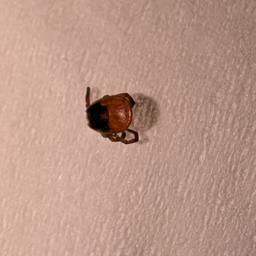Ixodes scapularis: (84, 87, 141, 145)
